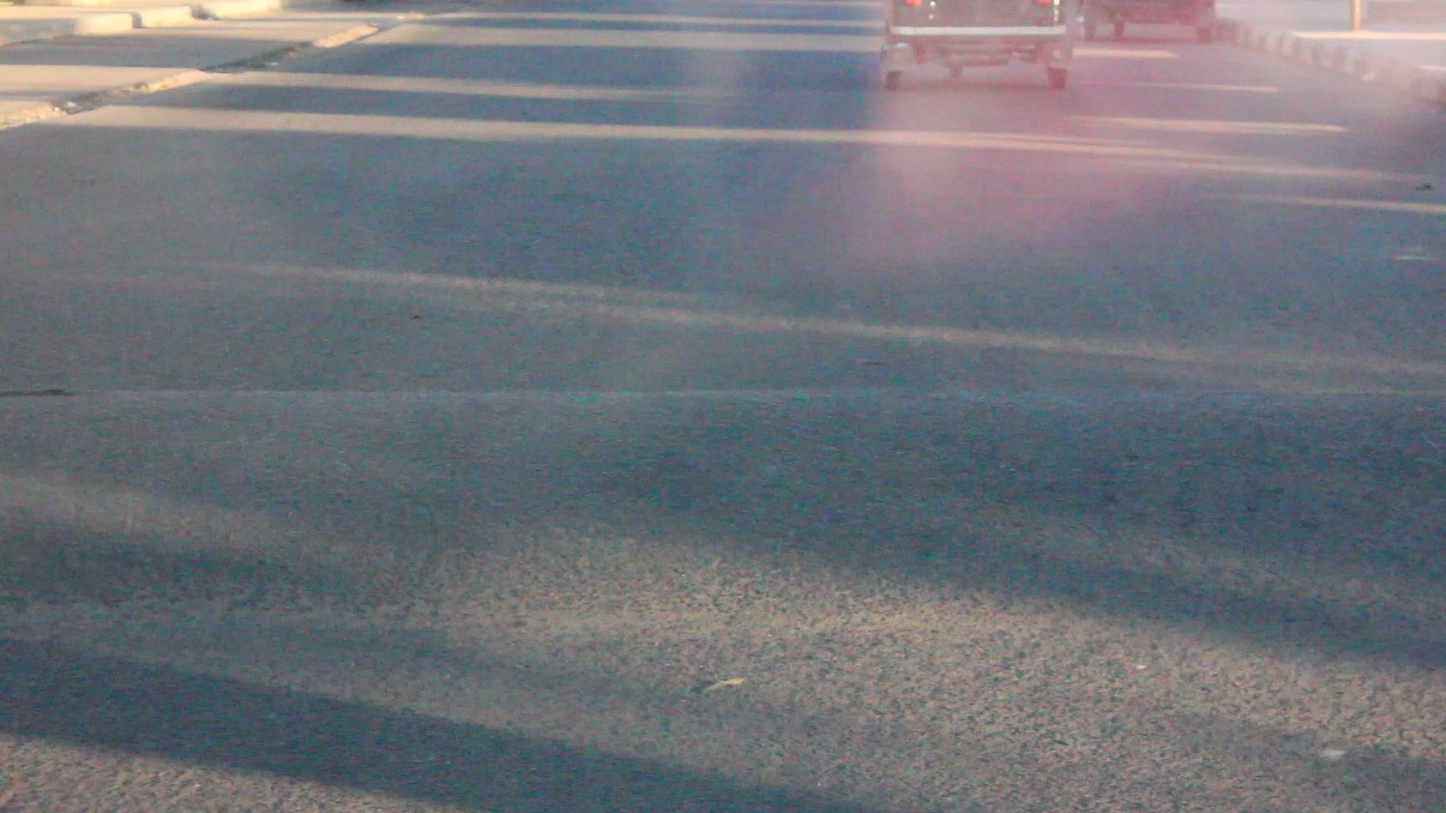Bump: (6, 373, 1446, 583)
